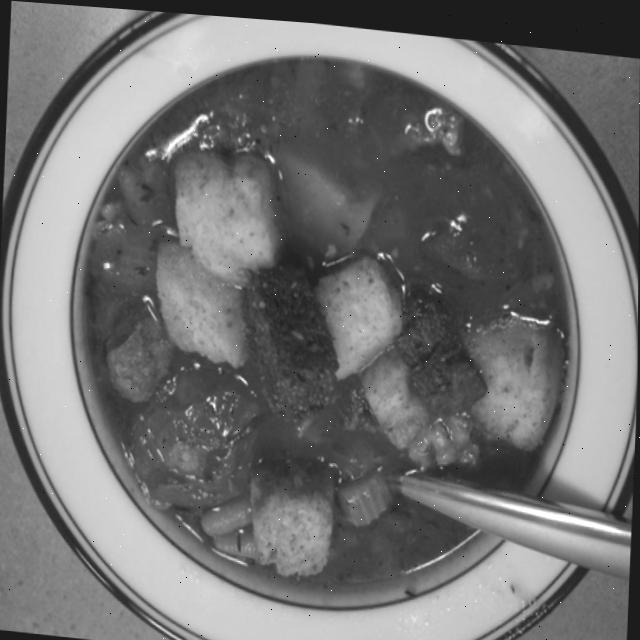汤锅炖物: (27, 2, 640, 640)
